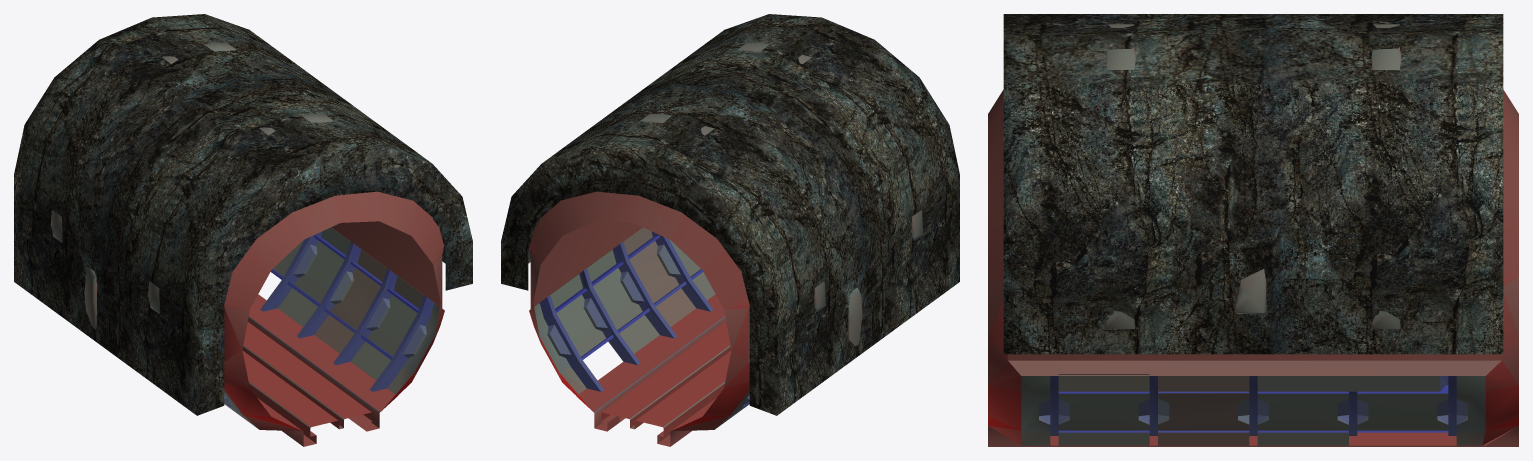
File: traintunnel_short_damaged04.dae
3 views of the same model, side by side, from view 1: azimuth 30°, elevation 25°; view 2: azimuth 150°, elevation 25°; view 3: azimuth 270°, elevation 25° (orthographic). The views are drawn at different scales.
Visible parts, largest first — view 1: rock__3_, tunnel_short_damaged04, concrete__3_; view 2: rock__3_, tunnel_short_damaged04, concrete__3_; view 3: rock__3_, tunnel_short_damaged04, concrete__3_.
Boxes of the visible parts, bbox=[...] form: rock__3_: bbox=[14, 14, 472, 415]; tunnel_short_damaged04: bbox=[224, 191, 444, 446]; concrete__3_: bbox=[50, 42, 432, 329]; rock__3_: bbox=[501, 14, 959, 415]; tunnel_short_damaged04: bbox=[529, 191, 749, 446]; concrete__3_: bbox=[540, 42, 923, 346]; rock__3_: bbox=[1003, 14, 1503, 354]; tunnel_short_damaged04: bbox=[988, 89, 1518, 446]; concrete__3_: bbox=[1105, 24, 1401, 329].
Bounding box in the file's own units: 6.77 × 6.4 × 8.
